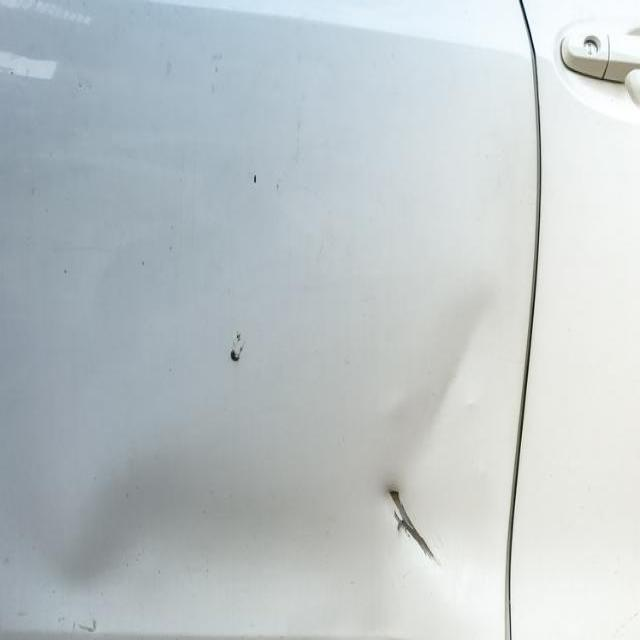Dent: (46, 239, 121, 263), (613, 604, 640, 636), (74, 617, 95, 631), (76, 74, 92, 88), (0, 62, 16, 76), (210, 52, 222, 66), (164, 59, 172, 76), (15, 610, 26, 618), (1, 554, 9, 564), (24, 66, 31, 76), (56, 614, 64, 622), (70, 622, 74, 630), (253, 172, 256, 182), (236, 331, 240, 338), (62, 268, 66, 274), (275, 182, 278, 188), (8, 71, 14, 73)
